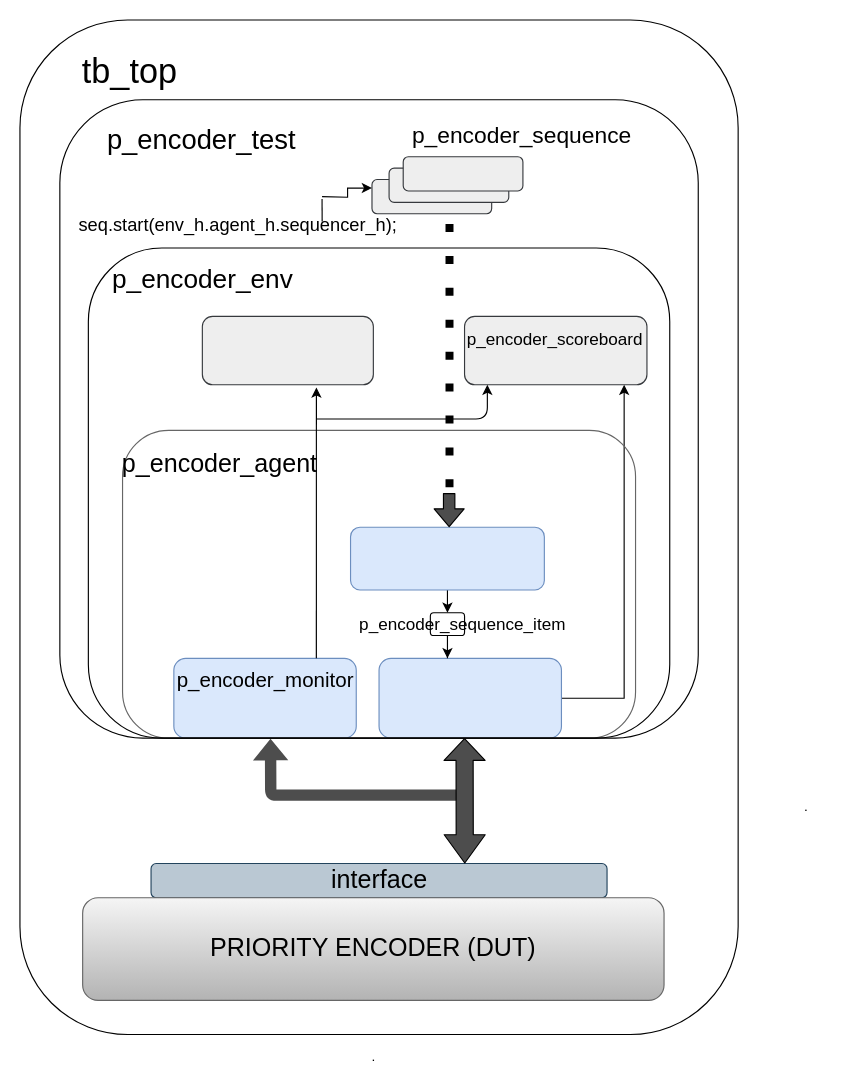
This 849x1089 diagram has some shape labels left out. Each missing label, with the centre of its shape:
"p_encoder_coverage" goes at (287,350).
"p_encoder_driver" goes at (469,697).
"p_encoder_sequencer" goes at (446,558).
